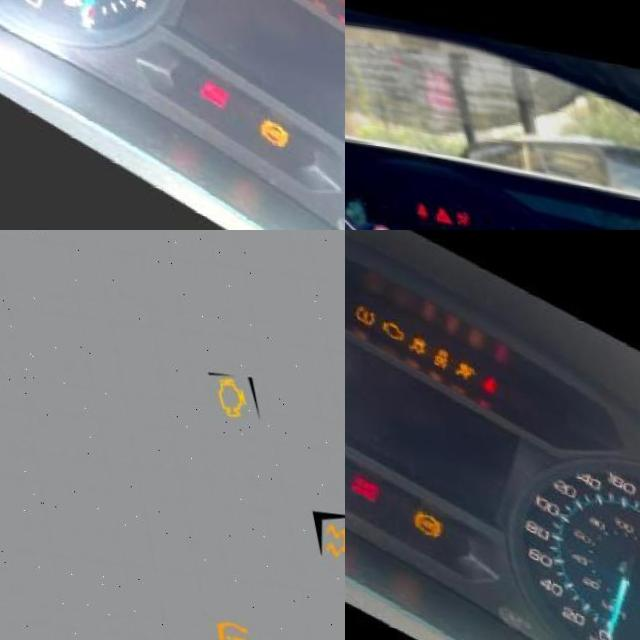Seat Belt: (399, 190, 416, 207)
